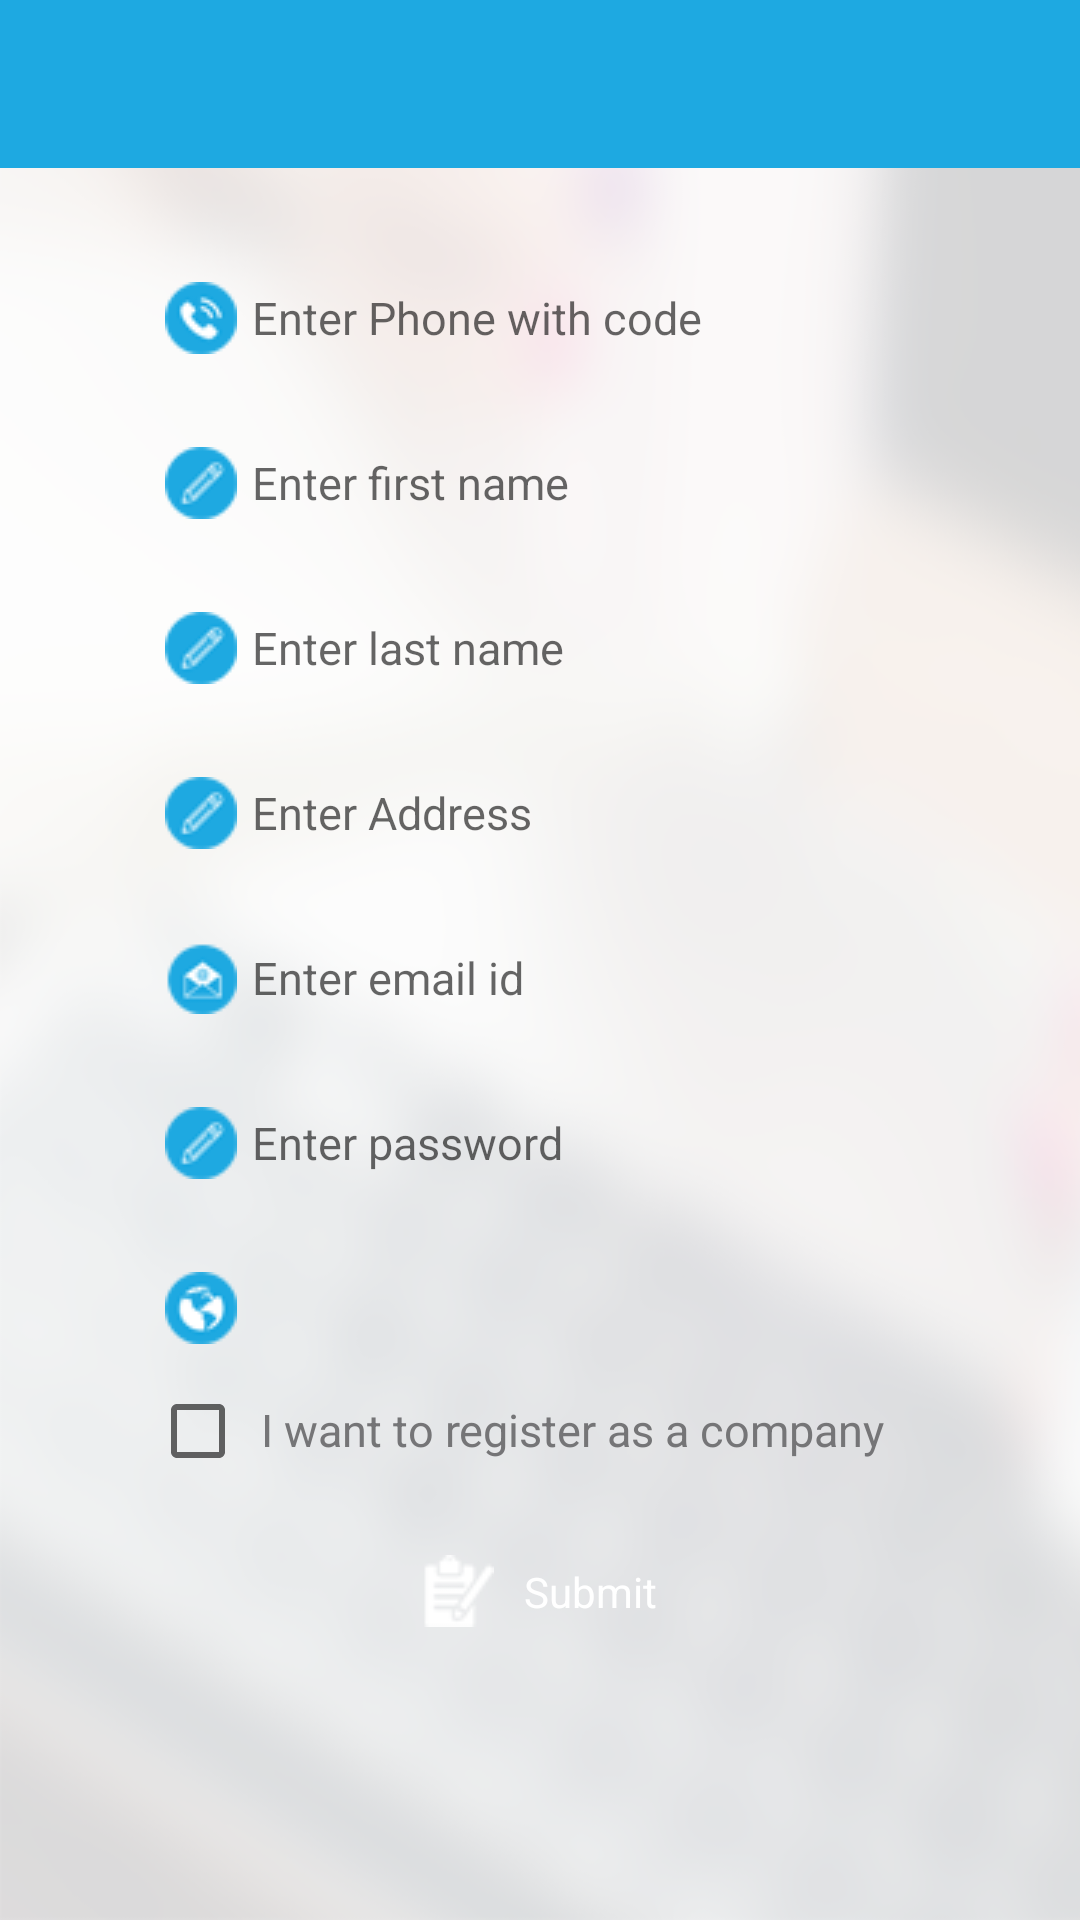

Where icons sit on this 1080*1920 app screen, as (x1, y1, x2, y2):
country: (165, 1272, 237, 1344)
